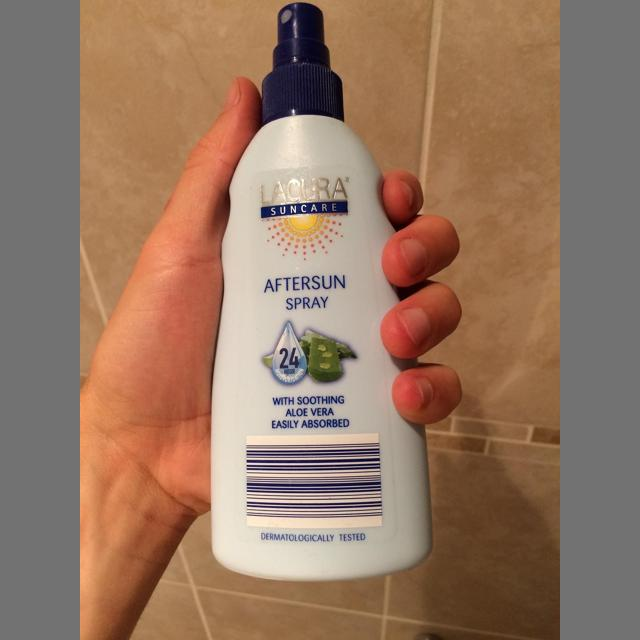litter: (211, 2, 434, 582)
